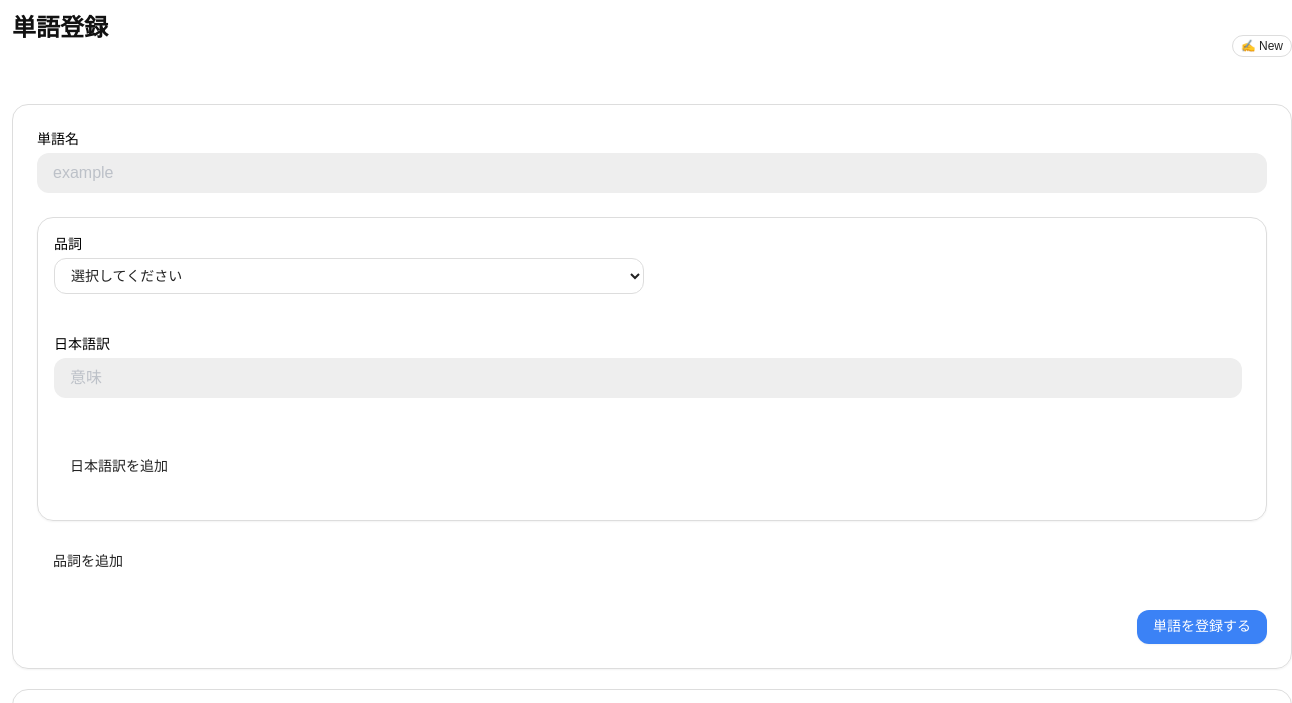
Scenario: WordNew Component › 無効な入力は送信されずエラーを表示
The width and height of the screenshot is (1292, 703).
Note: 数字を入力 → ハンドラで拒否され、値は '' のまま
Type "1234" into the field with placeholder "example".
click(652, 173); type("1234")  # box [37,153,1267,193]
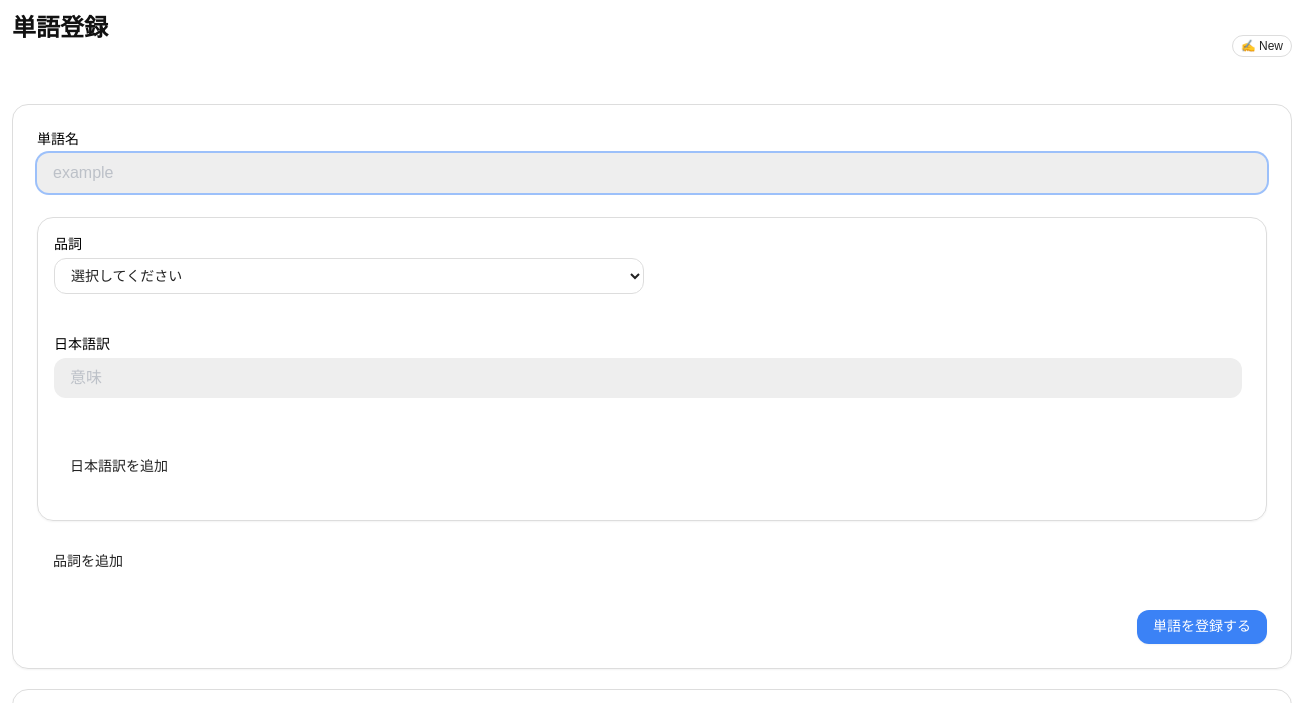
Note: form を送信（ブラウザネイティブ検証は避ける）
Submit the form named "word-create-form"
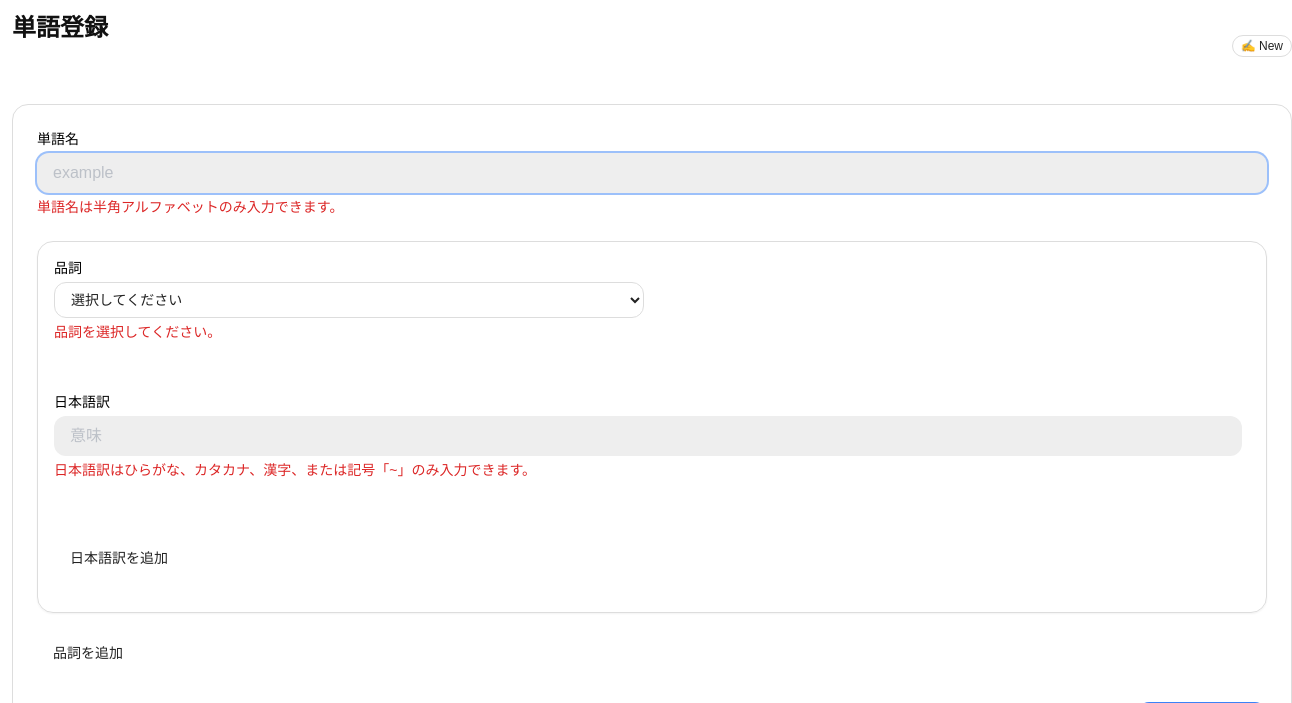
Check: the text "単語名は半角アルファベットのみ入力できます。" is shown, box [37,199,344,215]
